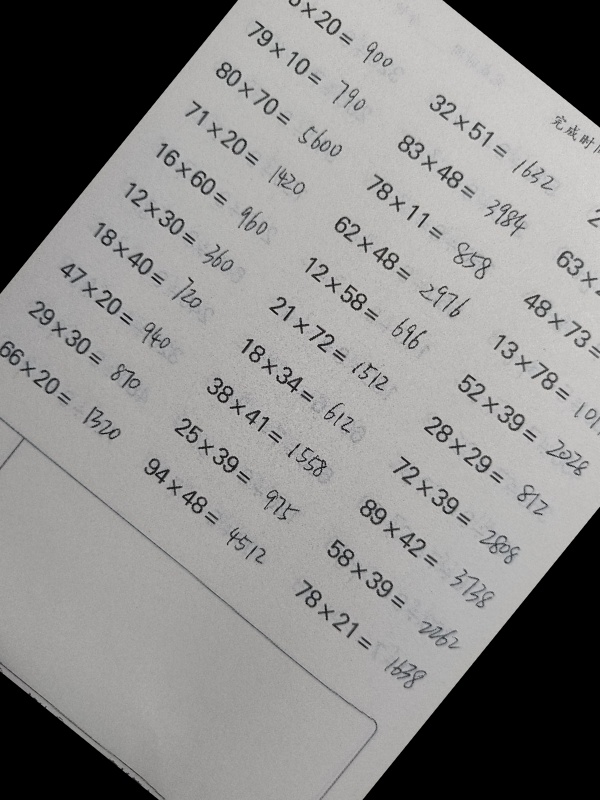equation: (140, 456, 282, 573), (323, 538, 465, 655), (355, 497, 497, 614), (388, 455, 530, 572), (181, 99, 323, 216), (330, 212, 472, 329), (362, 171, 504, 288), (26, 299, 167, 416), (236, 335, 377, 452), (421, 413, 562, 530), (291, 580, 433, 696), (55, 258, 197, 374), (88, 220, 230, 336), (151, 141, 293, 257), (300, 254, 442, 370), (426, 91, 568, 207), (172, 416, 313, 532), (203, 376, 344, 492), (120, 180, 261, 296), (268, 293, 409, 409), (455, 372, 596, 488), (212, 59, 353, 175), (244, 19, 385, 135), (395, 131, 536, 247), (0, 339, 135, 455), (274, 0, 416, 94), (489, 331, 600, 448), (519, 287, 600, 404), (552, 246, 600, 363), (586, 205, 600, 322)
